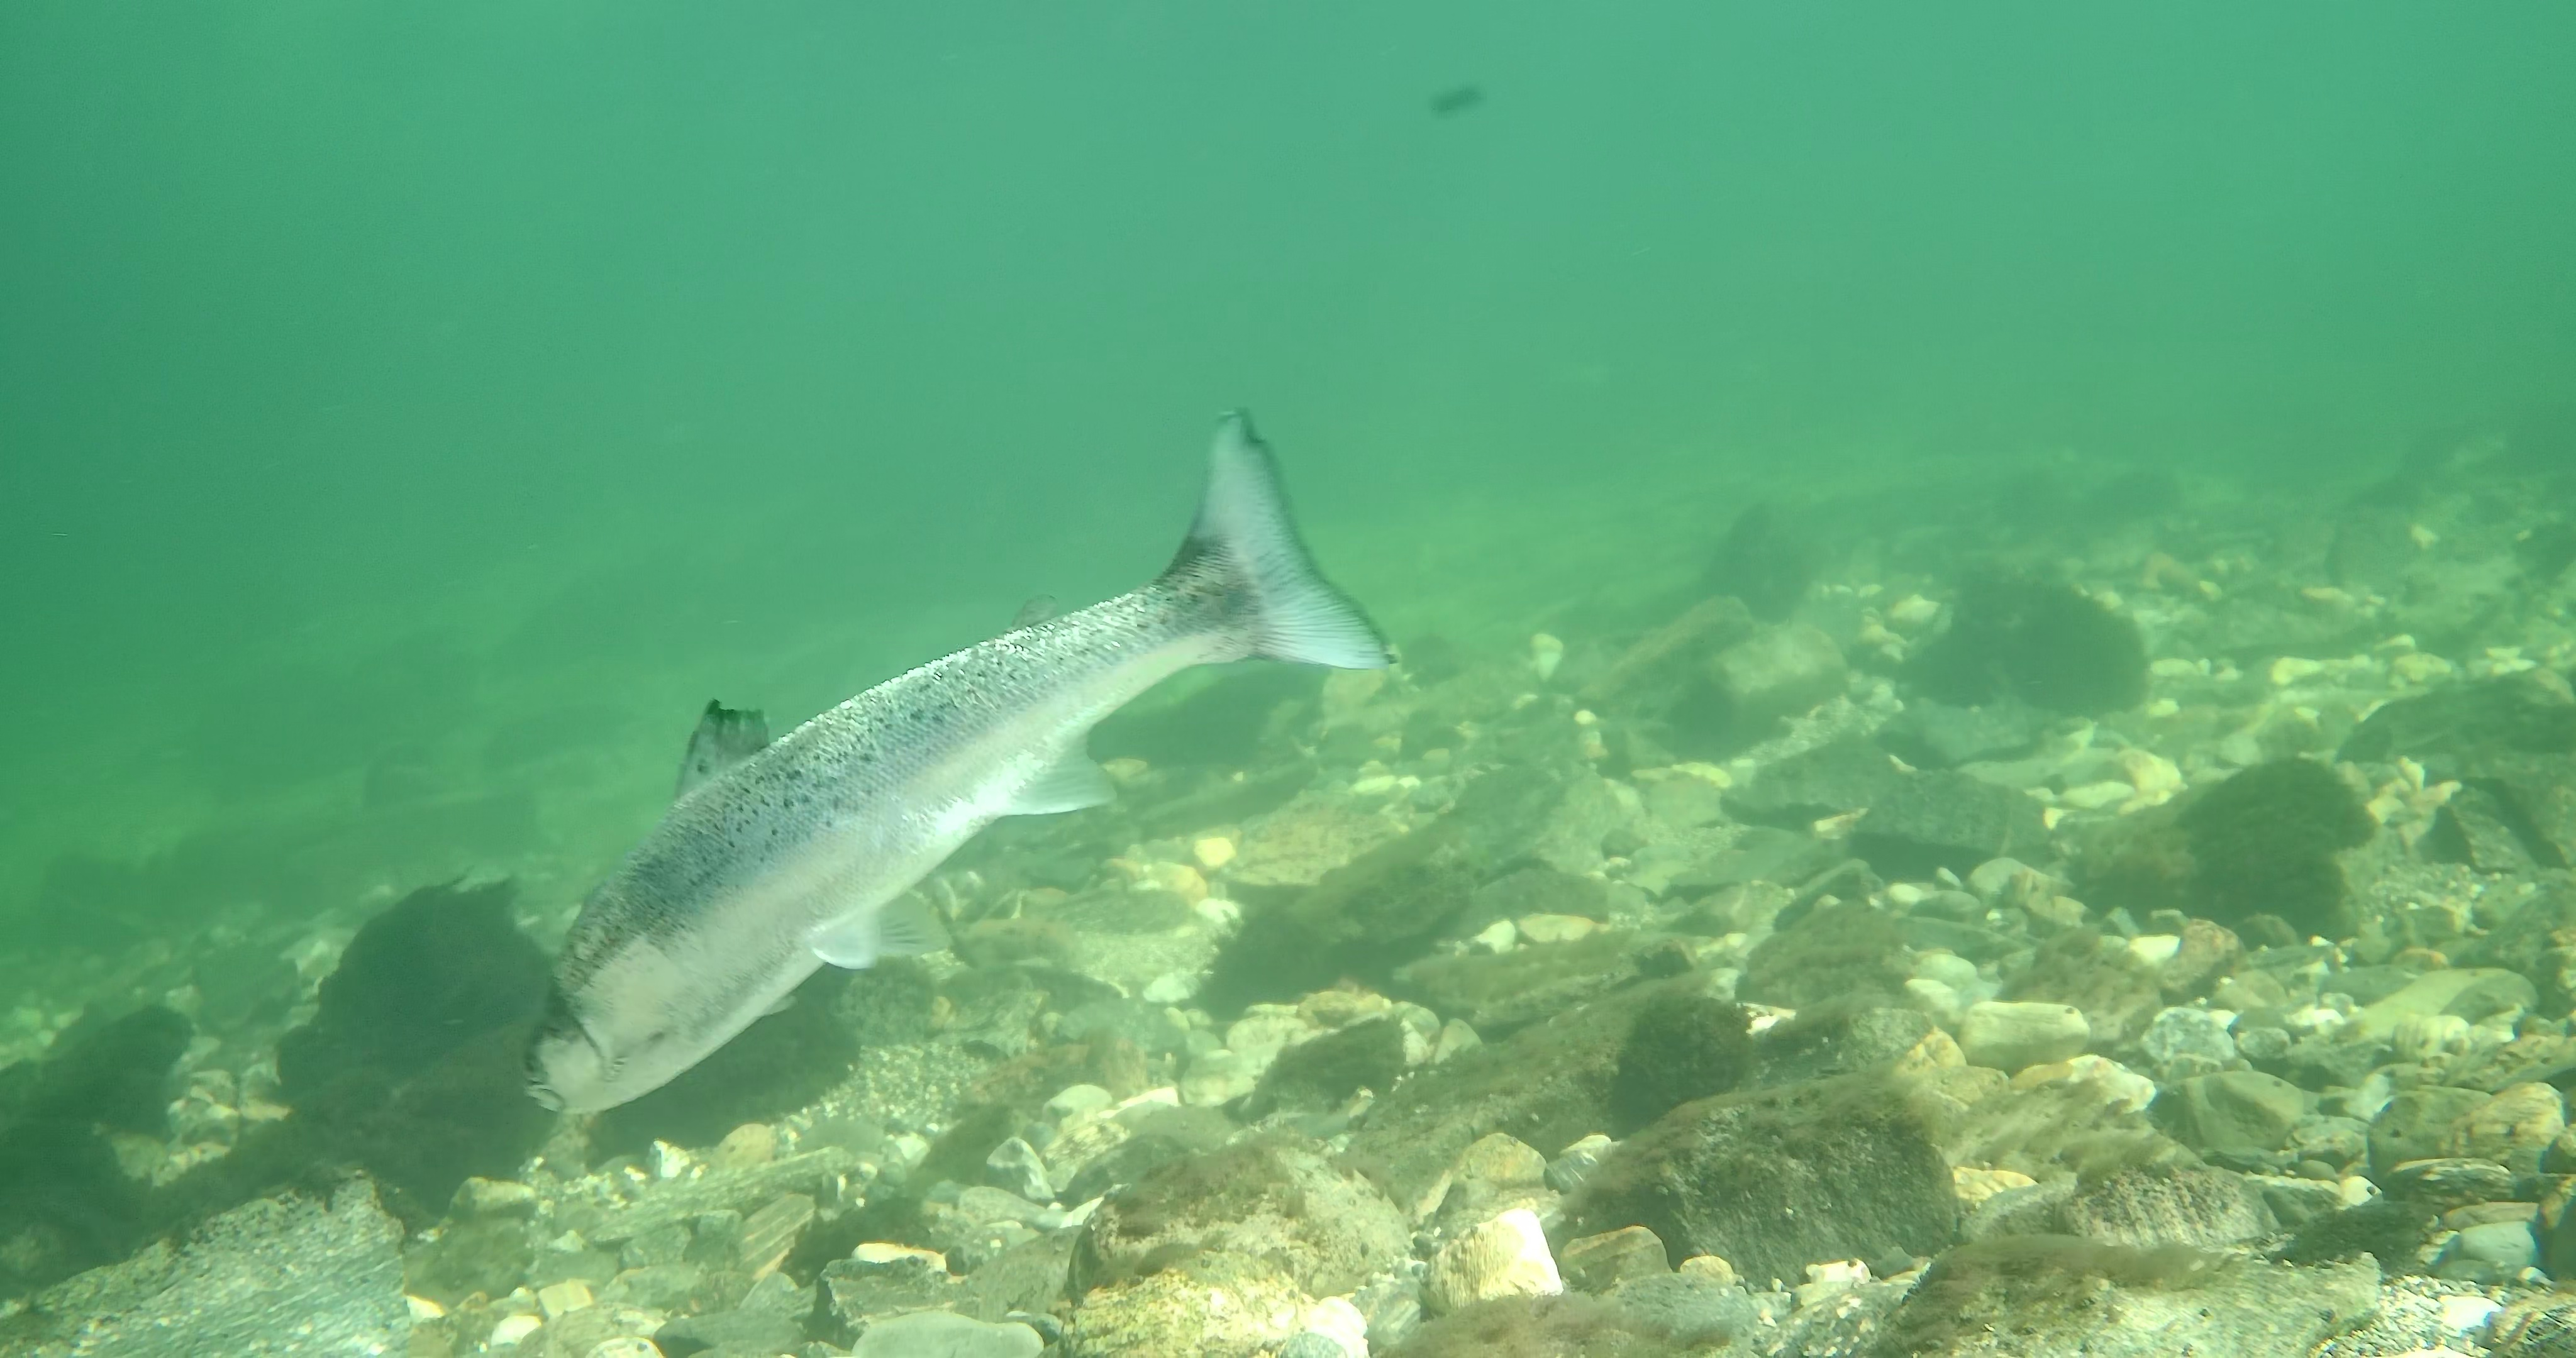salmon: (520, 404, 1406, 1118)
